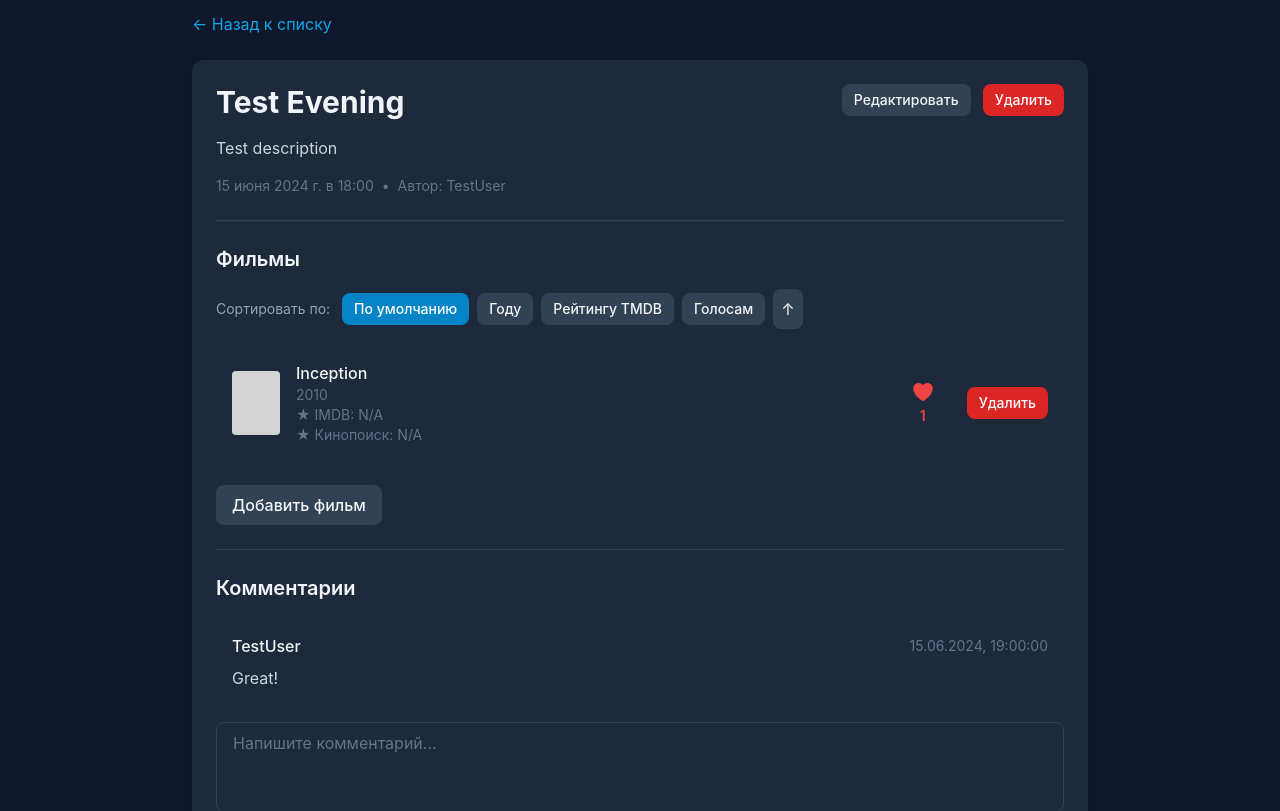
Test: EveningDetail › Edit mode › cancelling edit restores original view
Expected: the heading "Test Evening" is shown, [216,84,404,120]
What coordinates should you click on to do the following:
click the button "Редактировать"
I would click on:
 (906, 100)
Its box is [842,84,971,116].
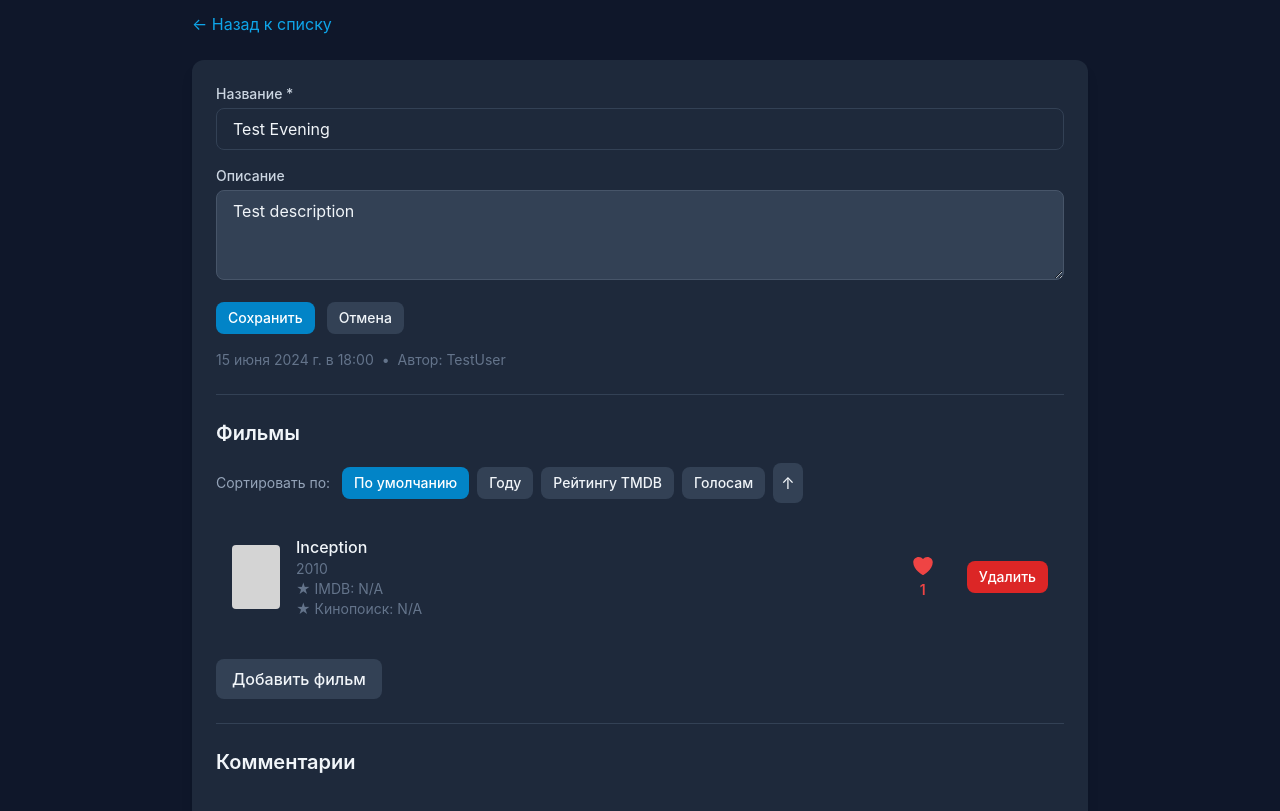
What coordinates should you click on to do the following:
click the button "Отмена"
I would click on:
 (365, 318)
Its box is [327,302,404,334].
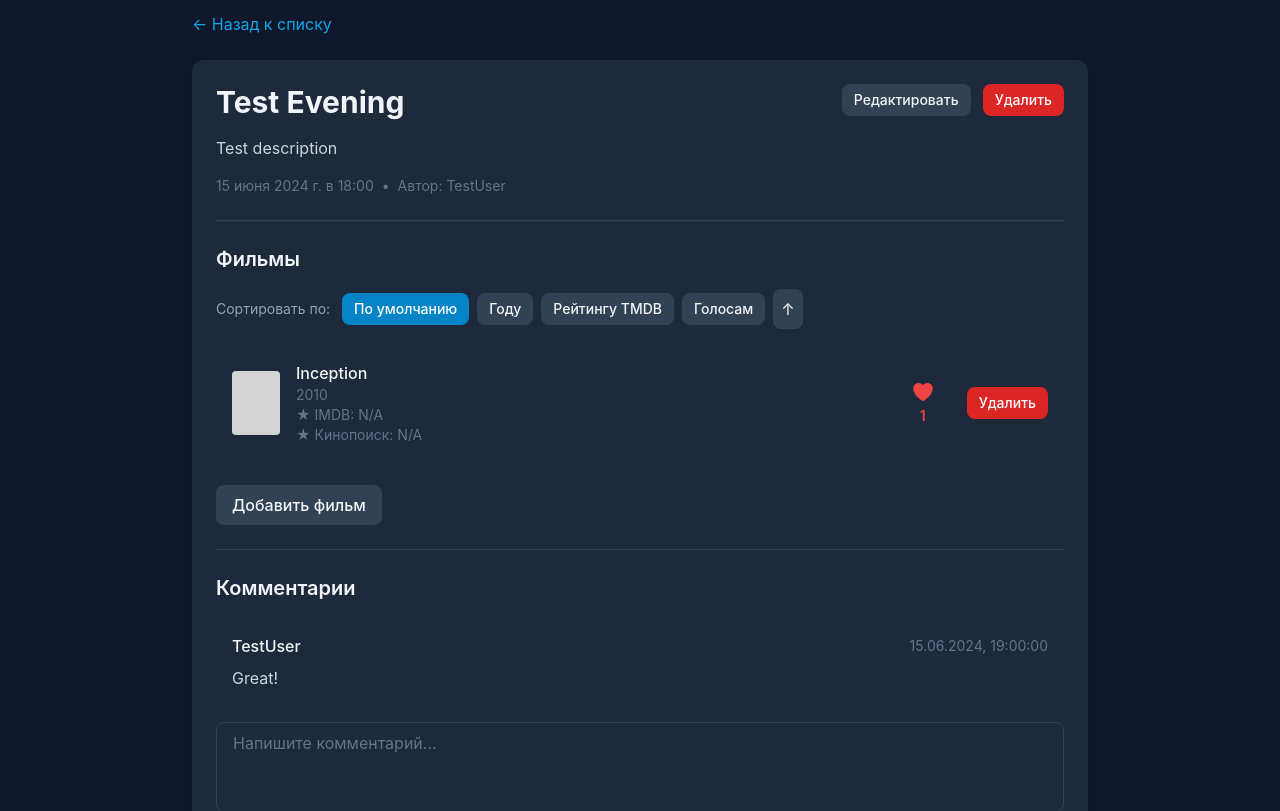
Expected: the heading "Test Evening" is shown, [216,84,404,120]
Expected: the text "Test description" is shown, [216,138,337,158]
